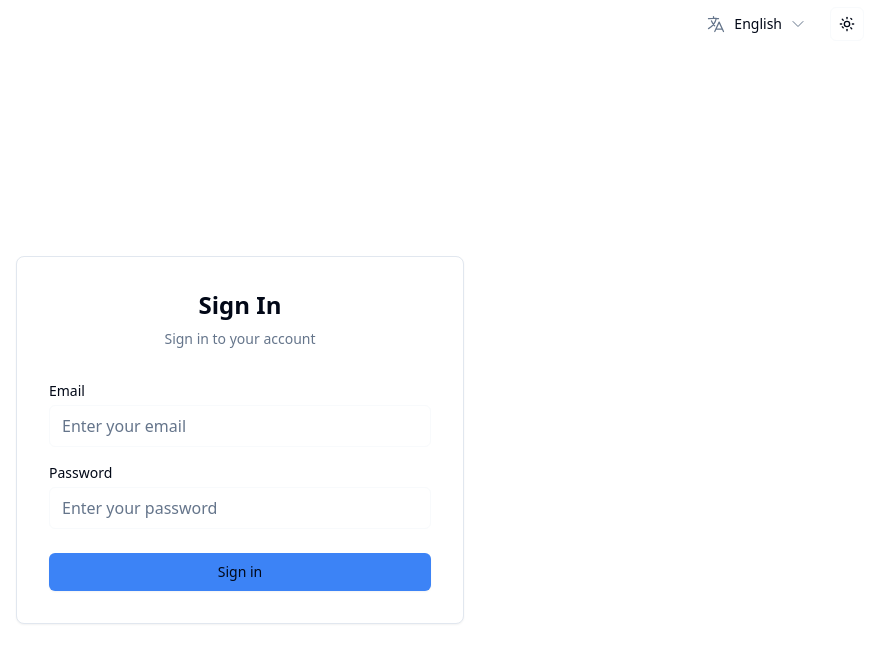
Test case: LoginPage › form validation › should show validation errors for empty fields
The width and height of the screenshot is (872, 665).
Click the button "Sign in" at (240, 572), box [49,553,431,591]
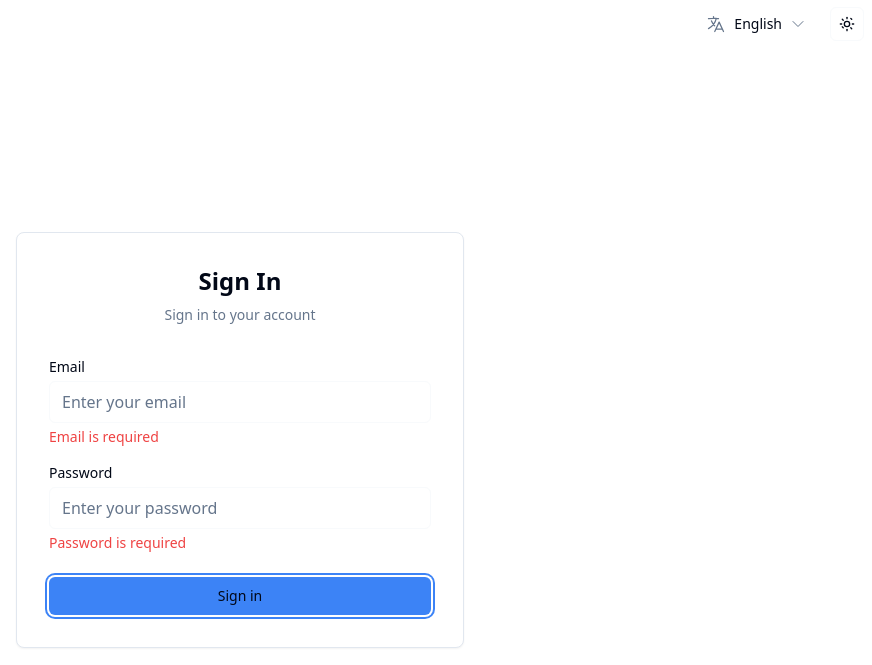
Now the text "Email is required" is shown, box [49,427,159,446]
Now the text "Password is required" is shown, box [49,533,186,552]
